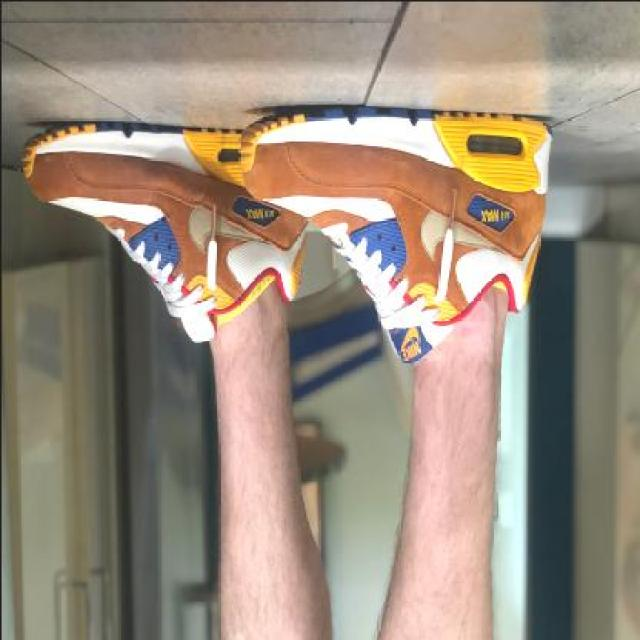shoe: (240, 102, 570, 293), (17, 128, 296, 300)
